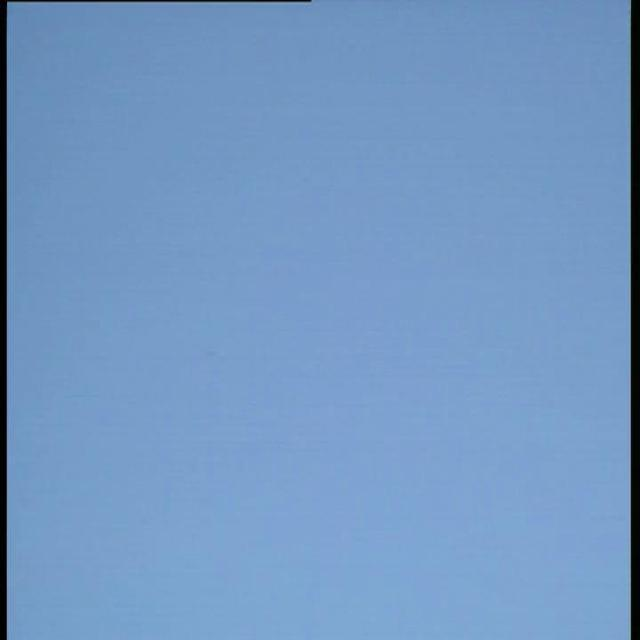drone: (200, 340, 230, 368)
